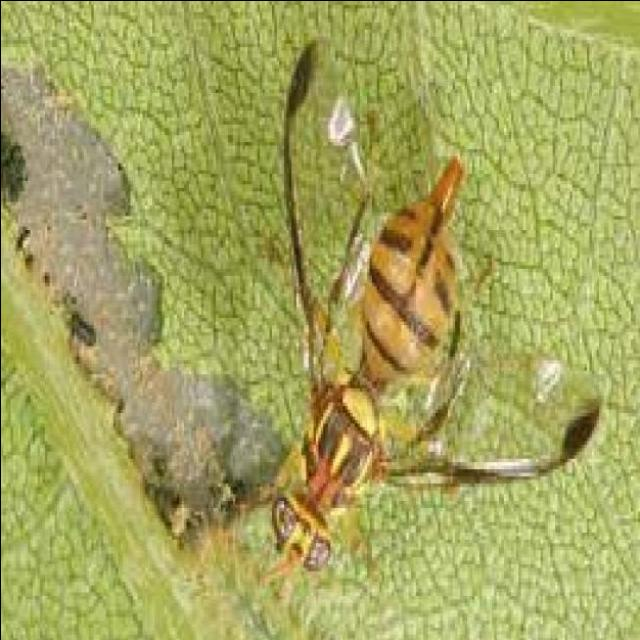Fruit fly: (250, 29, 620, 607)
